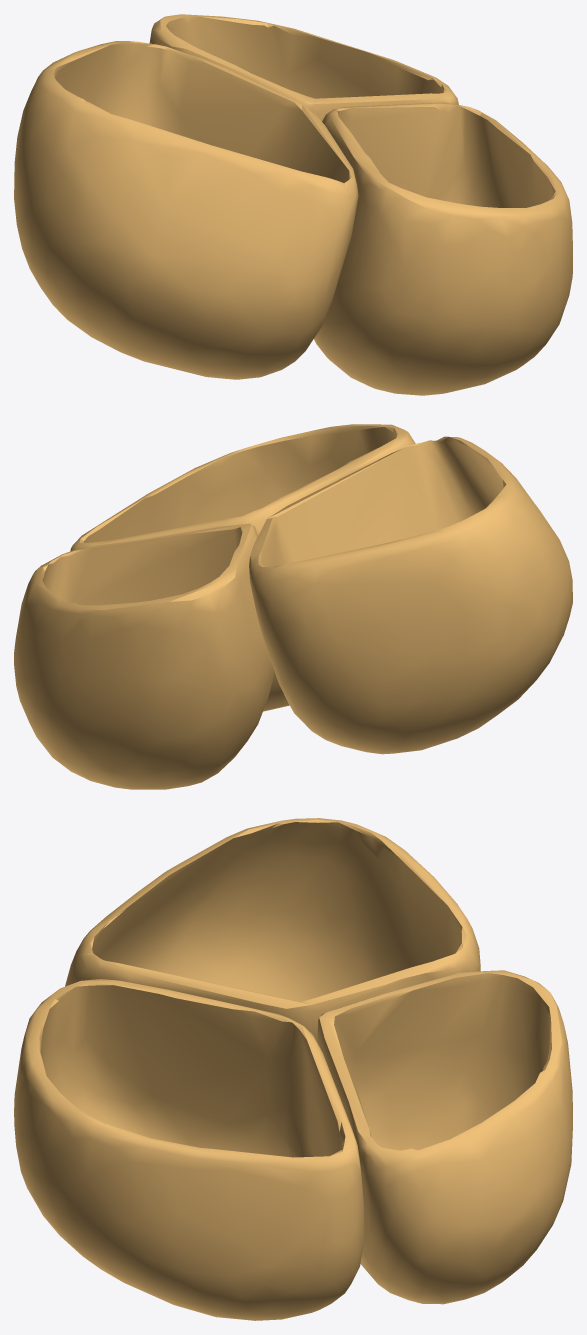
Rendered from valva-pulmonar.glb.
3 renders of one model, top to bottom at view 1: azimuth 30°, elevation 25°; view 2: azimuth 150°, elevation 25°; view 3: azimuth 270°, elevation 25°, orthographic. The views are drawn at different scales.
Parts seen in each view (by area): view 1: valva-pulmonar; view 2: valva-pulmonar; view 3: valva-pulmonar.
Part boxes in pixels (x1,y1,x2,y2): valva-pulmonar: [14, 14, 572, 395]; valva-pulmonar: [14, 424, 572, 789]; valva-pulmonar: [14, 818, 572, 1320].
Size of the model in its own units: 0.0322 by 0.0204 by 0.032.
